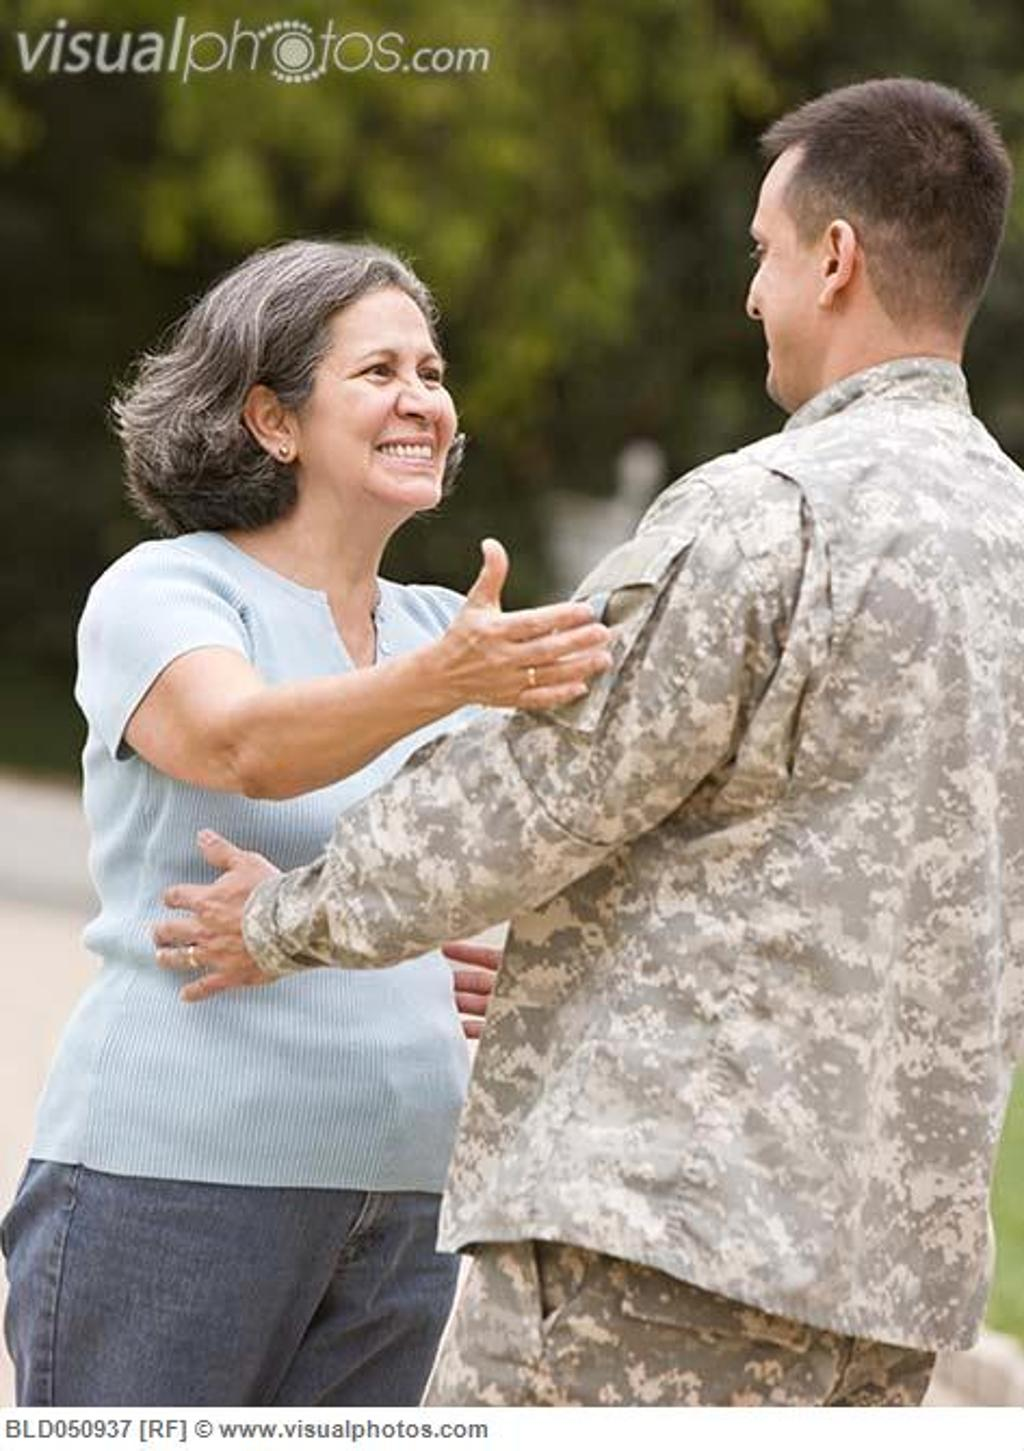face: (292, 289, 459, 502), (746, 153, 823, 388)
